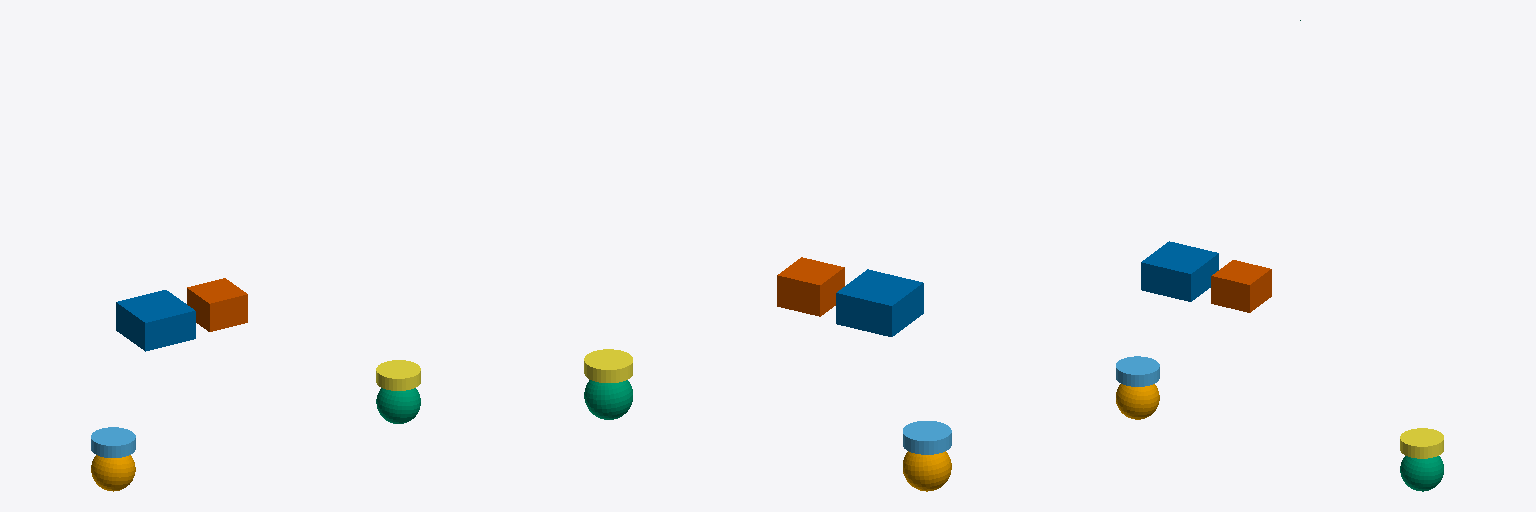
robot.urdf — vnymous:
<?xml version="1.0"?>
<robot name="vnymous">

  <link name="base_footprint"/>

  <link name="base_link">
    <visual>
      <origin rpy="0 -0 1.5707" xyz="0 0.35 0"/>
      <geometry>
        <mesh filename="file://[local-path]/ar_ws/src/ar_sim/meshes/igvc/igvc_bot.dae" scale="0.001 0.001 0.001"/>
      </geometry>
    </visual>

    <collision>
      <origin rpy="0 -0 1.5707" xyz="0 0.35 0"/>
      <geometry>
        <mesh filename="file://[local-path]/ar_ws/src/ar_sim/meshes/igvc/igvc_bot.dae" scale="0.001 0.001 0.001"/>
      </geometry>   
    </collision>

    <inertial>
      <mass value="10"/>
      <inertia ixx="0.166667" ixy="0.0" ixz="0.0" iyy="0.166667" iyz="0.0" izz="0.166667"/>
    </inertial>
  </link>
    
  <link name="perpendicular">
    <visual>
      <origin rpy="0 0 0" xyz="0 0 0"/>
      <geometry>
        <box size="0.0001 0.00001 0.00001"/>
      </geometry>
    </visual>
        
    <collision>
      <origin rpy="0 0 0" xyz="0 0 0"/>
      <geometry>
        <box size="0.0001 0.00001 0.00001"/>
      </geometry>
    </collision>
        
    <inertial>
      <mass value="0"/>
      <inertia ixx="0.0" ixy="0.0" ixz="0.0" iyy="0.0" iyz="0.0" izz="0.0"/>
    </inertial>
  </link>

  <link name="zed_camera">
    <visual>
      <origin rpy="0 0 1.5707" xyz="-0.015 -0.005 0"/>
      <geometry>
        <mesh filename="file://[local-path]/ar_ws/src/ar_sim/meshes/igvc/zed2i.dae" scale="1 1 1"/>
      </geometry>
    </visual>  

    <collision>
      <origin rpy="0 0 1.5707" xyz="-0.015 -0.005 0"/>
      <geometry>
        <mesh filename="file://[local-path]/ar_ws/src/ar_sim/meshes/igvc/zed2i.dae"/>
      </geometry>
    </collision>
      
    <inertial>
      <mass value="0.5"/>
      <inertia ixx="0.166667" ixy="0.0" ixz="0.0" iyy="0.166667" iyz="0.0" izz="0.166667"/>
    </inertial>
  </link>

  <gazebo reference="zed_camera">
    <sensor name="zedcam" type="depth">
      <always_on>true</always_on>
      <update_rate>15</update_rate>
      <pose>0 0 0 0 0 0</pose>
      <camera name="zed_depth_camera">
        <horizontal_fov>1.46608</horizontal_fov>
        <image>
          <width>1920</width>
          <height>1080</height>
          <format>B8G8R8</format>
        </image>
        <clip>
          <near>0.05</near>
          <far>8</far>
        </clip>
      </camera>
            
      <plugin name="depthcam_driver" filename="libgazebo_ros_camera.so">
        <ros>
          <namespace>zed</namespace>
          <!-- <remapping>${name}/points:=depth/points</remapping> -->
        </ros>
        <camera_name>zed_node</camera_name>
        <frame_name>perpendicular</frame_name>
        <hack_baseline>0.07</hack_baseline>
        <min_depth>0.05</min_depth>
        <max_depth>8.0</max_depth>
      </plugin>
    </sensor>
  </gazebo>

  <link name="gps_link">
    <visual>
      <origin rpy="0 0 0" xyz="0 0 0"/>
      <geometry>
        <box size="0.13 0.13 0.07"/>
      </geometry>
    </visual>  

    <collision>
      <origin rpy="0 0 0" xyz="0 0 0"/>
      <geometry>
        <box size="0.13 0.13 0.07"/>
      </geometry>
    </collision>
      
    <inertial>
      <mass value="0.5"/>
      <inertia ixx="0.166667" ixy="0.0" ixz="0.0" iyy="0.166667" iyz="0.0" izz="0.166667"/>
    </inertial>
  </link>

  <gazebo reference="gps_link">
    <sensor name="gps_sensor" type="gps">
        <always_on>true</always_on>
        <update_rate>1.0</update_rate>
        
        <gps>
          <position_sensing>
            <horizontal>
              <noise type="gaussian">
                <mean>0.0</mean>
                <stddev>0.01</stddev>
              </noise>
            </horizontal>
            <vertical>
              <noise type="gaussian">
                <mean>0.0</mean>
                <stddev>0.01</stddev>
              </noise>
            </vertical>
          </position_sensing>
        </gps>

        <plugin name="gps_controller" filename="libgazebo_ros_gps_sensor.so">
            <ros>
                <!-- <namespace>/br</namespace> -->
                <remapping>~/out:=/gps/fix</remapping>
            </ros>
            <frame_name>gps_link</frame_name>
        </plugin>
    </sensor>
    <material>Gazebo/Red</material>
  </gazebo>

  <link name="imu_link">
    <visual>
      <origin rpy="0 0 0" xyz="0 0 0"/>
      <geometry>
        <box size="0.1 0.1 0.07"/>
      </geometry>
    </visual>  

    <collision>
      <origin rpy="0 0 0" xyz="0 0 0"/>
      <geometry>
        <box size="0.1 0.1 0.07"/>
      </geometry>
    </collision>
      
    <inertial>
      <mass value="0.2"/>
      <inertia ixx="0.166667" ixy="0.0" ixz="0.0" iyy="0.166667" iyz="0.0" izz="0.166667"/>
    </inertial>
  </link>

  <gazebo reference="imu_link">
    <sensor name="br_imu" type="imu">
        <always_on>true</always_on>
        <update_rate>100</update_rate>
        <imu>
          <angular_velocity>
            <x>
              <noise type="gaussian">
                <mean>0.0</mean>
                <stddev>2e-4</stddev>
              </noise>
            </x>
            <y>
              <noise type="gaussian">
                <mean>0.0</mean>
                <stddev>2e-4</stddev>
              </noise>
            </y>
            <z>
              <noise type="gaussian">
                <mean>0.0</mean>
                <stddev>2e-4</stddev>
              </noise>
            </z>
          </angular_velocity>
          <linear_acceleration>
            <x>
              <noise type="gaussian">
                <mean>0.0</mean>
                <stddev>1.7e-2</stddev>
              </noise>
            </x>
            <y>
              <noise type="gaussian">
                <mean>0.0</mean>
                <stddev>1.7e-2</stddev>
              </noise>
            </y>
            <z>
              <noise type="gaussian">
                <mean>0.0</mean>
                <stddev>1.7e-2</stddev>
              </noise>
            </z>
          </linear_acceleration>
        </imu>
        <plugin name="bytes_imu" filename="libgazebo_ros_imu_sensor.so">
            <ros>
                <namespace>imu</namespace>
                <remapping>~/out:=data</remapping>
            </ros>
            <initial_orientation_as_reference>false</initial_orientation_as_reference>
        </plugin>
    </sensor>
  </gazebo>

  <link name="wheel1">
    <visual>
      <geometry>
        <mesh filename="file://[local-path]/ar_ws/src/ar_sim/meshes/igvc/igvc_wheel.dae" scale="0.001 0.001 0.001"/>
      </geometry>
      <origin rpy ="0 0 0" xyz="0 0 0"/>
    </visual>

    <collision>
      <geometry>
        <cylinder radius="0.12" length="0.04"/>
      </geometry>
      <origin rpy ="1.5707 0 1.5707" xyz="-0.065 0 0"/>
    </collision>

    <inertial>
      <mass value="5"/>
      <inertia ixx="0.166667" ixy="0.0" ixz="0.0" iyy="0.166667" iyz="0.0" izz="0.166667"/>
    </inertial>
  </link>

  <link name="wheel2">
    <visual>
      <geometry>
        <mesh filename="file://[local-path]/ar_ws/src/ar_sim/meshes/igvc/igvc_wheel.dae" scale="0.001 0.001 0.001"/>
      </geometry>
    <origin rpy ="0 0 0" xyz="0 0 0"/>
    </visual>

    <collision>
      <geometry>
        <cylinder radius="0.12" length="0.04"/>
      </geometry>
      <origin rpy ="1.5707 0 1.5707" xyz="-0.065 0 0"/>
    </collision>

    <inertial>
      <mass value="5"/>
      <inertia ixx="0.166667" ixy="0.0" ixz="0.0" iyy="0.166667" iyz="0.0" izz="0.166667"/>
    </inertial>
  </link>

  <link name="castor_ball">
    <visual>
      <geometry>
        <sphere radius="0.05"/>
      </geometry>
      <origin rpy="0 0 0" xyz="0 0 0"/>
    </visual>

    <collision>
      <geometry>
        <sphere radius="0.05"/>
      </geometry>
      <origin rpy="0 0 0" xyz="0 0 0"/>
    </collision>

    <inertial>
      <mass value="3"/>
      <inertia ixx="0.166667" ixy="0.0" ixz="0.0" iyy="0.166667" iyz="0.0" izz="0.166667"/>
    </inertial>
  </link>

  <link name="castor_cylinder">
    <visual>
      <geometry>
        <cylinder length="0.03" radius="0.05"/>
      </geometry>
      <origin rpy="0 0 0" xyz="0 0 0"/>
    </visual>

    <collision>
      <geometry>
        <cylinder length="0.03" radius="0.05"/>
      </geometry>
      <origin rpy ="0 0 0" xyz="0 0 0"/>
    </collision>
      
    <inertial>
      <mass value="2"/>
      <inertia ixx="0.166667" ixy="0.0" ixz="0.0" iyy="0.166667" iyz="0.0" izz="0.166667"/>
    </inertial>
  </link>

  <link name="castor_ball2">
    <visual>
      <geometry>
        <sphere radius="0.05"/>
      </geometry>
      <origin rpy="0 0 0" xyz="0 0 0"/>
    </visual>
    
    <collision>
      <geometry>
        <sphere radius="0.05"/>
      </geometry>
      <origin rpy="0 0 0" xyz="0 0 0"/>
    </collision>
    
    <inertial>
      <mass value="3"/>
      <inertia ixx="0.166667" ixy="0.0" ixz="0.0" iyy="0.166667" iyz="0.0" izz="0.166667"/>
    </inertial>
  </link>
      
  <link name="castor_cylinder2">
    <visual>
      <geometry>
        <cylinder length="0.03" radius="0.05"/>
      </geometry>
      <origin rpy="0 0 0" xyz="0 0 0"/>
    </visual>
    
    <collision>
      <geometry>
        <cylinder length="0.03" radius="0.05"/>
      </geometry>
      <origin rpy ="0 0 0" xyz="0 0 0"/>
    </collision>
        
    <inertial>
      <mass value="2"/>
      <inertia ixx="0.166667" ixy="0.0" ixz="0.0" iyy="0.166667" iyz="0.0" izz="0.166667"/>
    </inertial>
  </link>
  
  <joint name="footprint_to_baselink" type="fixed">
    <parent link="base_footprint"/>
    <child link="base_link"/>
    <origin rpy ="0 0 0.010" xyz="0 0 0"/>
  </joint>

  <joint name="body_to_wheel1" type="continuous">
    <parent link="base_link"/>
    <child link="wheel1"/>
    <axis xyz="1 0 0"/>
    <origin rpy ="0 0 1.5707" xyz="0.0 -0.21 0"/>
  </joint>
  
  <joint name="body_to_wheel2" type="continuous">
    <parent link="base_link"/>
    <child link="wheel2"/>
    <axis xyz="-1 0 0"/>
    <origin rpy ="0 0 -1.5707" xyz="-0.005 0.22 0"/>
  </joint>

  <joint name="body_to_castor_cylinder" type="continuous">
    <parent link="base_link"/>
    <child link="castor_cylinder"/>
    <axis xyz="0 0 1"/>
    <origin rpy ="0 0 0" xyz="-0.37 0 0"/>
  </joint>

  <joint name="cylinder_to_castor_ball" type="continuous">
    <parent link="castor_cylinder"/>
    <child link="castor_ball"/>
    <axis xyz="0 1 0"/>
    <origin rpy ="0 0.132544 0" xyz="0 0 -0.065"/>
  </joint>

  <joint name="body_to_cam" type="fixed">
    <parent link="base_link"/>
    <child link="zed_camera"/>
    <origin rpy ="0 0 0" xyz="0.14 0.02 0.905"/>
  </joint>

  <joint name="body_to_gps" type="fixed">
    <parent link="base_link"/>
    <child link="gps_link"/>
    <origin rpy ="0 0 0" xyz="-0.26 0 0.275"/>
  </joint>

  <joint name="body_to_imu" type="fixed">
    <parent link="base_link"/>
    <child link="imu_link"/>
    <origin rpy ="0 0 0" xyz="-0.1 0 0.275"/>
  </joint>

  <joint name="body_to_castor_cylinder2" type="continuous">
    <parent link="base_link"/>
    <child link="castor_cylinder2"/>
    <axis xyz="0 0 1"/>
    <origin rpy ="0 0 0" xyz="0.37 0 -0.01"/>
  </joint>

  <joint name="cylinder_to_castor_ball2" type="continuous">
    <parent link="castor_cylinder2"/>
    <child link="castor_ball2"/>
    <axis xyz="0 1 0"/>
    <origin rpy ="0 0.132544 0" xyz="0 0 -0.065"/>
  </joint>
  
  <joint name="perp" type="fixed">
    <parent link="base_link"/>
    <child link="perpendicular"/>
    <origin rpy ="-1.5707 0 -1.5707" xyz="-0.02 0.13 0.905"/>
  </joint>

  <gazebo>
    <plugin filename="libgazebo_ros_diff_drive.so" name="differential_drive_controller">
      <ros>
        <!-- <namespace>/vnymous</namespace> -->
      </ros>

      <!-- wheels -->
      <left_joint>body_to_wheel2</left_joint>
      <right_joint>body_to_wheel1</right_joint>

      <!-- kinematics -->
      <wheel_separation>0.43</wheel_separation>
      <wheel_diameter>0.24</wheel_diameter>

      <!-- limits -->
      <max_wheel_torque>100</max_wheel_torque>
      <max_wheel_acceleration>2.5</max_wheel_acceleration>

      <!-- output -->
      <publish_odom>true</publish_odom>
      <publish_odom_tf>false</publish_odom_tf>
      <publish_wheel_tf>false</publish_wheel_tf>

      <odometry_frame>odom</odometry_frame>
      <robot_base_frame>base_footprint</robot_base_frame>
    </plugin>
  </gazebo>
  
  <gazebo>
    <plugin name="joint_states" filename="libgazebo_ros_joint_state_publisher.so">
      <ros>
        <!-- <namespace>/br</namespace> -->
        <remapping>~/out:=joint_states</remapping>
      </ros>
      <update_rate>30</update_rate>
      <joint_name>footprint_to_baselink</joint_name>
      <joint_name>body_to_wheel1</joint_name>
      <joint_name>body_to_wheel2</joint_name>
      <joint_name>body_to_cam</joint_name>
      <joint_name>body_to_gps</joint_name>
      <joint_name>body_to_castor_cylinder</joint_name>
      <joint_name>body_to_castor_cylinder2</joint_name>
      <joint_name>cylinder_to_castor_ball</joint_name>
      <joint_name>cylinder_to_castor_ball2</joint_name>
      <joint_name>body_to_perpendicular</joint_name>
    </plugin>
</gazebo>

  <!-- COLORS -->

  <gazebo reference="base_link"> 
    <material>Gazebo/BlueLaser</material>
  </gazebo>

  <gazebo reference="zed_camera"> 
    <material>Gazebo/Grey</material>
  </gazebo>

  <gazebo reference="wheel1"> 
    <material>Gazebo/Black</material>
  </gazebo>

  <gazebo reference="wheel2"> 
    <material>Gazebo/Black</material>
  </gazebo>

  <gazebo reference="castor_cylinder"> 
    <material>Gazebo/Black</material>
  </gazebo>

  <gazebo reference="castor_cylinder2"> 
    <material>Gazebo/Black</material>
  </gazebo>

  <gazebo reference="castor_ball"> 
    <material>Gazebo/Black</material>
  </gazebo>

  <gazebo reference="castor_ball2"> 
    <material>Gazebo/Black</material>
  </gazebo>
</robot> 

--- What the picture shows (computed from the rendered views, not written in the file) ---
The picture shows the robot from 3 angles, left to right: view 1: azimuth 30°, elevation 25°; view 2: azimuth 150°, elevation 25°; view 3: azimuth 330°, elevation 25°; orthographic projection.
Model vnymous with 12 links and 11 joints (6 continuous, 5 fixed), rooted at base_footprint, posed every joint at zero.
Visible links, largest first — view 1: gps_link, imu_link, castor_ball, castor_ball2, castor_cylinder2, castor_cylinder; view 2: gps_link, imu_link, castor_ball2, castor_ball, castor_cylinder, castor_cylinder2; view 3: gps_link, imu_link, castor_ball, castor_ball2, castor_cylinder2, castor_cylinder.
Link boxes in pixels (x1=…): gps_link: x1=116, y1=290, x2=195, y2=351; imu_link: x1=187, y1=278, x2=247, y2=331; castor_ball: x1=91, y1=455, x2=135, y2=491; castor_ball2: x1=376, y1=388, x2=420, y2=423; castor_cylinder2: x1=376, y1=360, x2=420, y2=390; castor_cylinder: x1=91, y1=427, x2=135, y2=457; gps_link: x1=836, y1=269, x2=923, y2=336; imu_link: x1=777, y1=257, x2=844, y2=316; castor_ball2: x1=584, y1=380, x2=632, y2=419; castor_ball: x1=903, y1=451, x2=951, y2=491; castor_cylinder: x1=903, y1=421, x2=951, y2=454; castor_cylinder2: x1=584, y1=349, x2=632, y2=382; gps_link: x1=1141, y1=241, x2=1218, y2=301; imu_link: x1=1211, y1=260, x2=1271, y2=312; castor_ball: x1=1116, y1=384, x2=1159, y2=419; castor_ball2: x1=1400, y1=456, x2=1443, y2=491; castor_cylinder2: x1=1400, y1=428, x2=1443, y2=458; castor_cylinder: x1=1116, y1=356, x2=1159, y2=386.
Size in the robot's own frame: 0.84 by 0.1981 by 1.03 metres.
Geometry: only primitive shapes (box / cylinder / sphere) drawn; not drawn: 4 mesh visuals (reference in a form the renderer does not follow).
